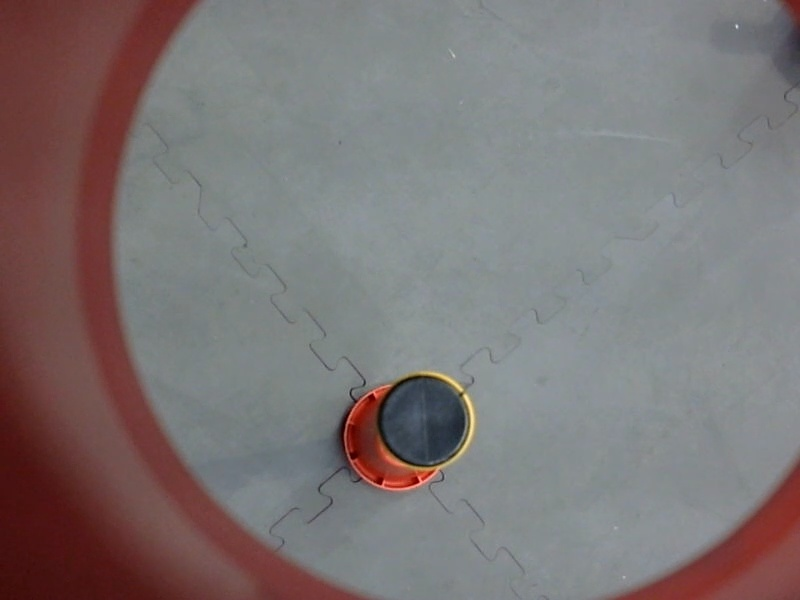tip: (370, 360, 486, 479)
